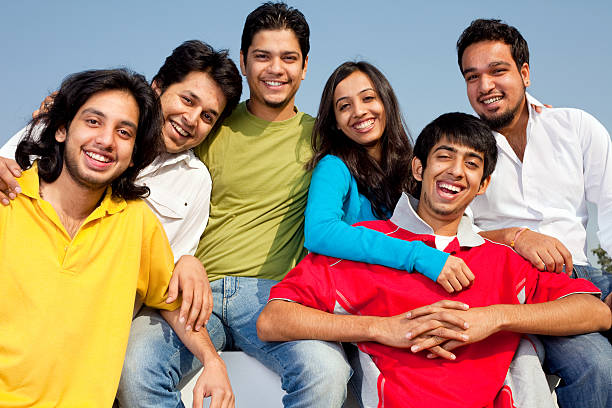men: (42, 65, 154, 193), (450, 16, 558, 121), (147, 38, 240, 157), (410, 113, 502, 223), (239, 1, 311, 112)
women: (321, 53, 405, 163)
